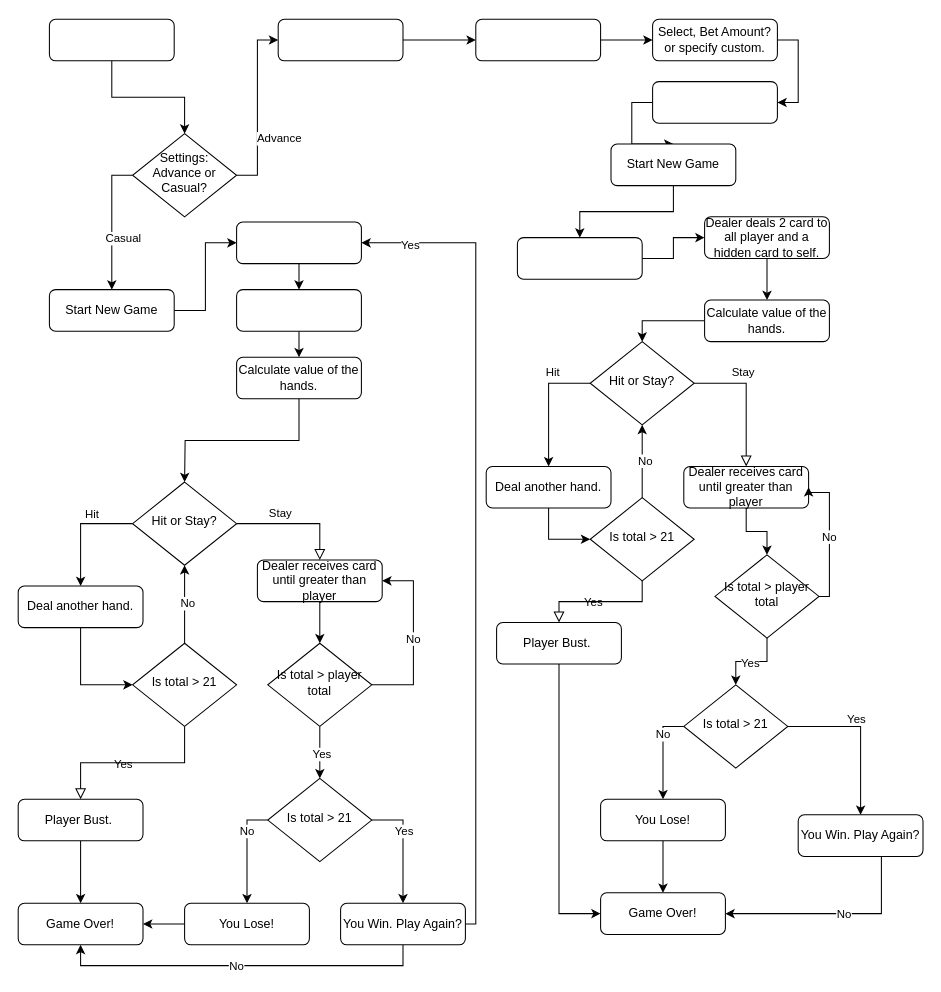
The diagram is 941 pixels wide and 992 high, and some of its shapes have lost their labels. The centre of each missing label's shape, as x and y in pixels:
"Add Advance Game Logic - Betting, New Rules" belongs at point (340, 39).
"Blackjack Landing page." belongs at point (111, 39).
"Dealer deals 1 card to player and a hidden card to self." belongs at point (298, 310).
"Dealer deals 1 card to player and self." belongs at point (298, 242).
"Dealer deals one card to all players" belongs at point (579, 258).
"Game Set Up" belongs at point (538, 39).
"Select Custom Rules" belongs at point (714, 102).
